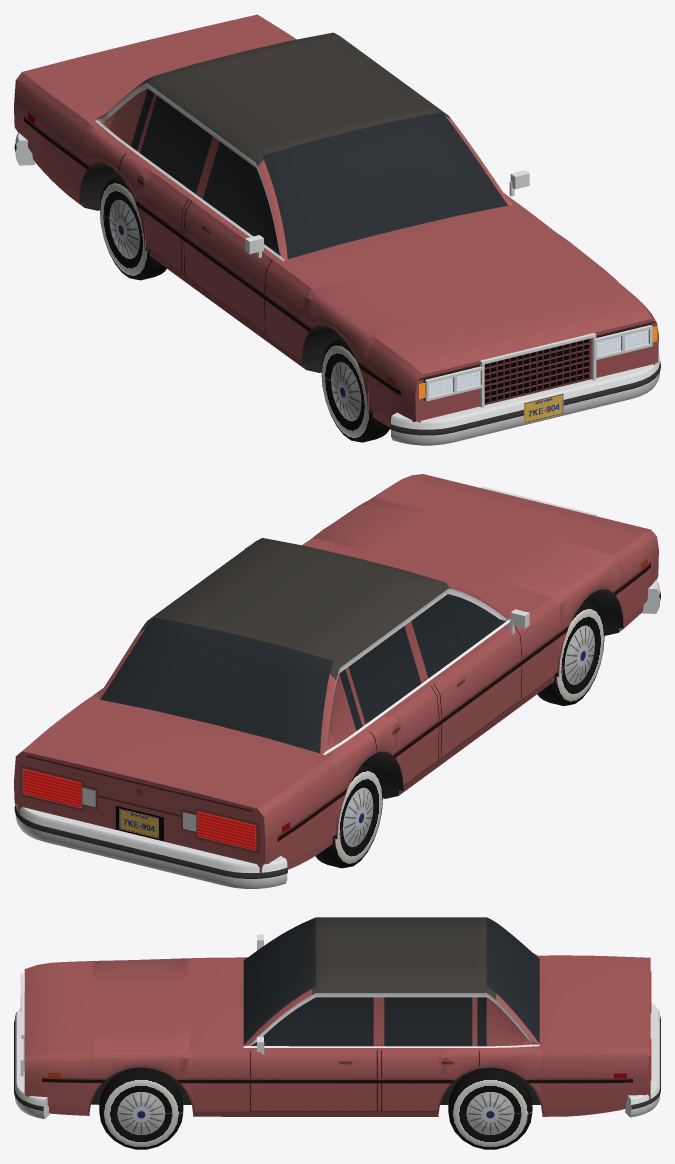
The model's file is ltd.glb.
3 views of the same model, one above another, from view 1: azimuth 30°, elevation 25°; view 2: azimuth 150°, elevation 25°; view 3: azimuth 270°, elevation 25° (orthographic). The views are drawn at different scales.
Visible parts, largest first — view 1: Body, Wheel_FR, Wheel_RR, HeadlightEmit; view 2: Body, Wheel_FR, Wheel_RR, TailLightEmit; view 3: Body, Wheel_RL, Wheel_FL.
Part boxes in pixels (x1=…): Body: x1=14, y1=14, x2=660, y2=445; Wheel_FR: x1=321, y1=337, x2=390, y2=442; Wheel_RR: x1=99, y1=175, x2=166, y2=280; HeadlightEmit: x1=429, y1=329, x2=648, y2=396; Body: x1=14, y1=474, x2=660, y2=888; Wheel_FR: x1=537, y1=601, x2=604, y2=705; Wheel_RR: x1=315, y1=763, x2=382, y2=868; TailLightEmit: x1=22, y1=768, x2=256, y2=850; Body: x1=14, y1=917, x2=660, y2=1119; Wheel_RL: x1=448, y1=1068, x2=532, y2=1149; Wheel_FL: x1=99, y1=1068, x2=183, y2=1149.
Size of what is drawn, in the model's own units: 2.12 by 1.44 by 5.38.
13 materials, 13 textured.
